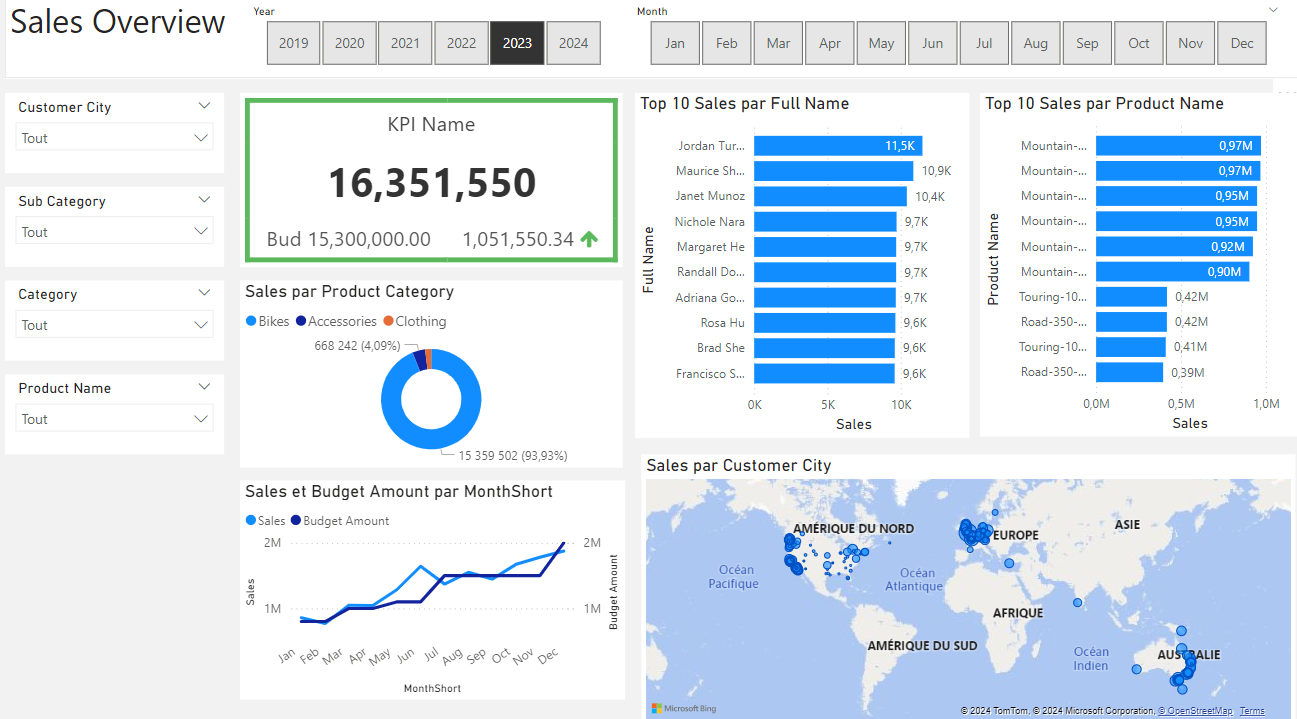

The dashboard page shown, as its layout file describes it:
{"tool":"powerbi","page":{"name":"Sales Overview","canvas":[1280,720],"ordinal":0},"visuals":[{"type":"textbox","box":[9.6,0,1270.7,83.7],"z":0},{"type":"slicer","fields":{"Values":["Dim customer.Customer City"]},"box":[9.6,97.4,214.1,78.2],"z":1000},{"type":"slicer","fields":{"Values":["Dim product.Sub Category"]},"box":[9.6,189.4,214.1,78.2],"z":2000},{"type":"slicer","fields":{"Values":["Dim product.Product Category"]},"box":[9.6,281.3,214.1,78.2],"z":3000},{"type":"slicer","fields":{"Values":["Dim product.Product Name"]},"box":[9.6,373.2,214.1,78.2],"z":4000},{"type":"slicer","fields":{"Values":["Dim calendar.Year"]},"box":[239.7,6.1,376.6,70.9],"z":5000},{"type":"slicer","fields":{"Values":["Dim calendar.MonthShort"]},"box":[615.1,6.1,653,70.9],"z":6000},{"type":"BBED0A4D4D8D44CE93CF2DAFADEE466C","fields":{"actual":["Key Measures.Sales"],"target1":["Key Measures.Budget Amount"],"target2":["Key Measures.Sales minus budget amont"]},"box":[239.9,97.5,374.6,170.6],"z":7000},{"type":"donutChart","fields":{"Category":["Dim product.Product Category"],"Y":["Key Measures.Sales"]},"box":[239.9,280.9,374.6,183.4],"z":8000},{"type":"lineChart","fields":{"Y":["Key Measures.Sales"],"Y2":["Key Measures.Budget Amount"],"Category":["Dim calendar.MonthShort"]},"box":[239.9,477.2,377.2,214.2],"z":9000},{"type":"barChart","title":"Top 10 Sales par  Full Name","fields":{"Y":["Key Measures.Sales"],"Category":["Dim customer.Full Name"]},"box":[626,97.5,327.1,337.4],"z":10000},{"type":"barChart","title":"Top 10 Sales par Product Name","fields":{"Y":["Key Measures.Sales"],"Category":["Dim product.Product Name"]},"box":[963.4,97.5,316.9,336.1],"z":11000},{"type":"map","fields":{"Category":["Dim customer.Customer City"],"Size":["Key Measures.Sales"]},"box":[632.4,451.6,640.1,268.1],"z":12000}]}

Visuals, with their boxes in screenshot pixels (x1, y1, x2, y2), scaled from the page's 1280x720 canvas onto the 1297x719 screenshot:
textbox: region(10, 0, 1296, 84)
slicer - Dim customer.Customer City: region(10, 97, 227, 175)
slicer - Dim product.Sub Category: region(10, 189, 227, 267)
slicer - Dim product.Product Category: region(10, 281, 227, 359)
slicer - Dim product.Product Name: region(10, 373, 227, 451)
slicer - Dim calendar.Year: region(243, 6, 624, 77)
slicer - Dim calendar.MonthShort: region(623, 6, 1285, 77)
BBED0A4D4D8D44CE93CF2DAFADEE466C - Key Measures.Sales x Key Measures.Budget Amount: region(243, 97, 623, 268)
donutChart - Dim product.Product Category x Key Measures.Sales: region(243, 281, 623, 464)
lineChart - Key Measures.Sales x Key Measures.Budget Amount: region(243, 477, 625, 690)
"Top 10 Sales par  Full Name" barChart: region(634, 97, 966, 434)
"Top 10 Sales par Product Name" barChart: region(976, 97, 1296, 433)
map - Dim customer.Customer City x Key Measures.Sales: region(641, 451, 1289, 718)
